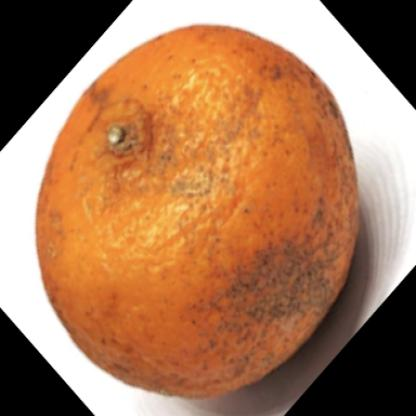rotten: (39, 26, 363, 402)
